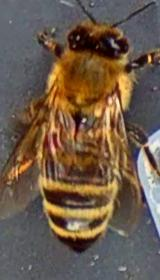varroa_mite: (36, 122, 68, 154)
